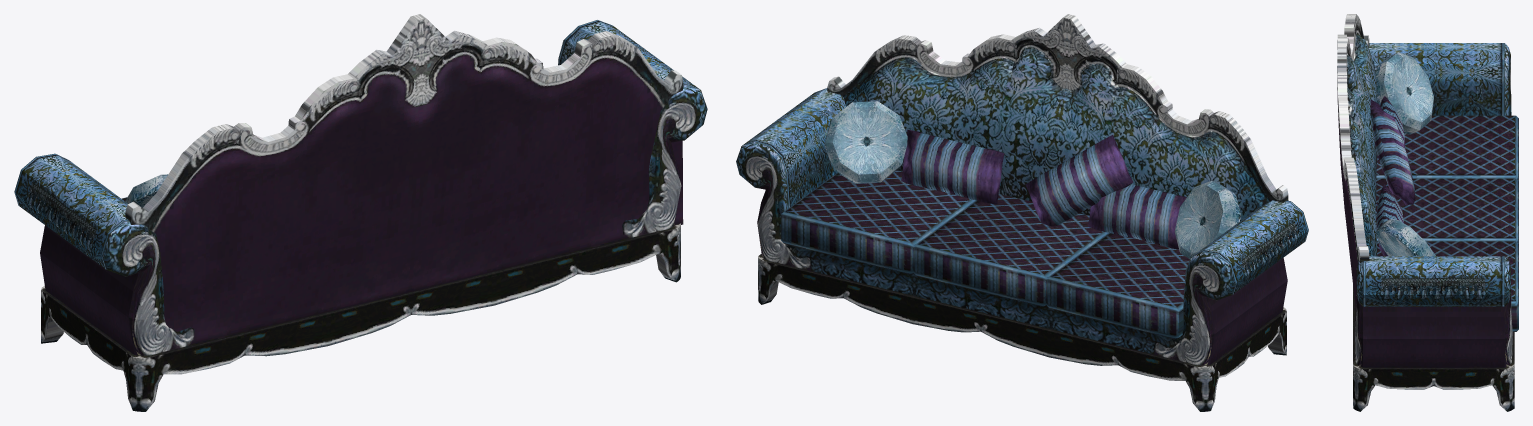
Rendered from furni_0201210_01.FBX.
3 views of the same model, side by side, from view 1: azimuth 30°, elevation 25°; view 2: azimuth 150°, elevation 25°; view 3: azimuth 270°, elevation 25° (orthographic). The views are drawn at different scales.
Visible parts, largest first — view 1: furni_0201210_01; view 2: furni_0201210_01; view 3: furni_0201210_01.
Boxes of the visible parts, x1,y1,x2,y2 form: furni_0201210_01: [14, 14, 707, 411]; furni_0201210_01: [736, 14, 1308, 411]; furni_0201210_01: [1337, 14, 1518, 411].
Bounding box in the file's own units: 239 × 126 × 77.57.
